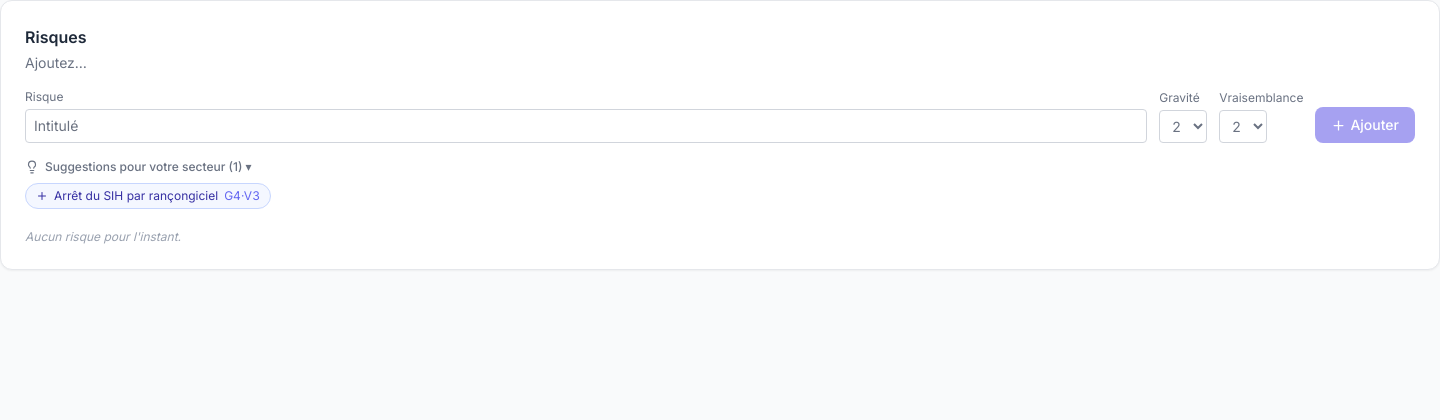
Scenario: RisquesDirects › suggestion : le clic AJOUTE directement le risque (POST) + surlignage « Annuler » (undo)
Expected: the text "Aucun risque pour l'instant." is shown, [25, 229, 181, 244]
Click the button "Arrêt du SIH par rançongiciel G4·V3".
click(148, 196)  # box [25, 183, 271, 209]
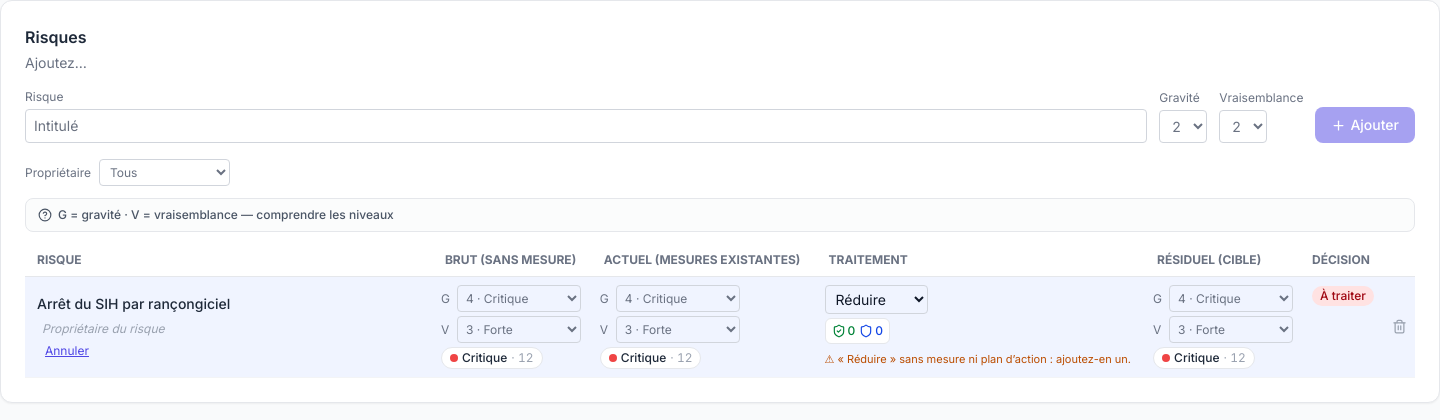
Expected: the text "Arrêt du SIH par rançongiciel" is shown, [37, 295, 293, 340]
Click the button "Annuler".
click(67, 351)  # box [45, 343, 89, 359]
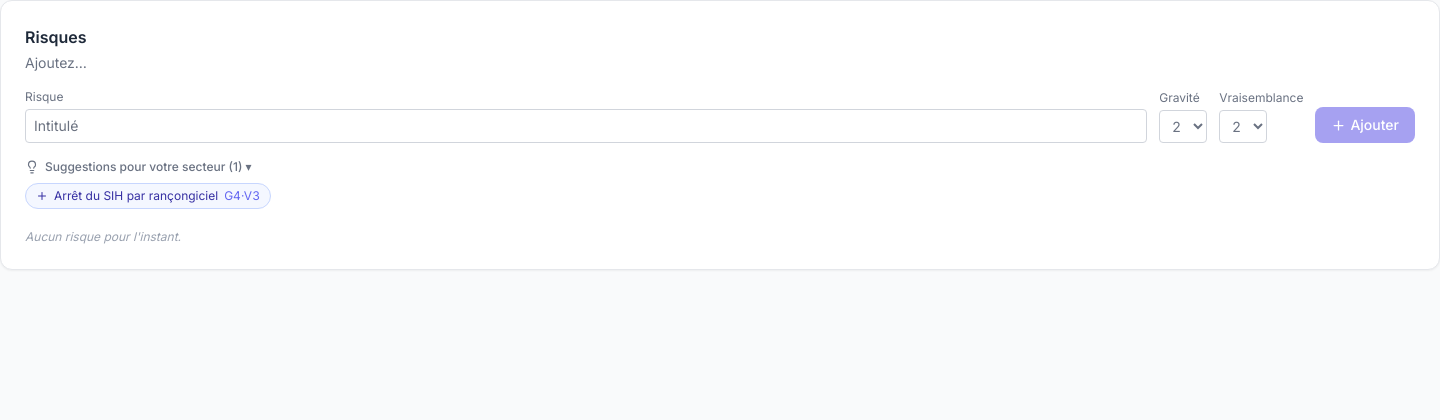
Expected: the text "Aucun risque pour l'instant." is shown, [25, 229, 181, 244]
Expected: the button "Annuler" is gone
